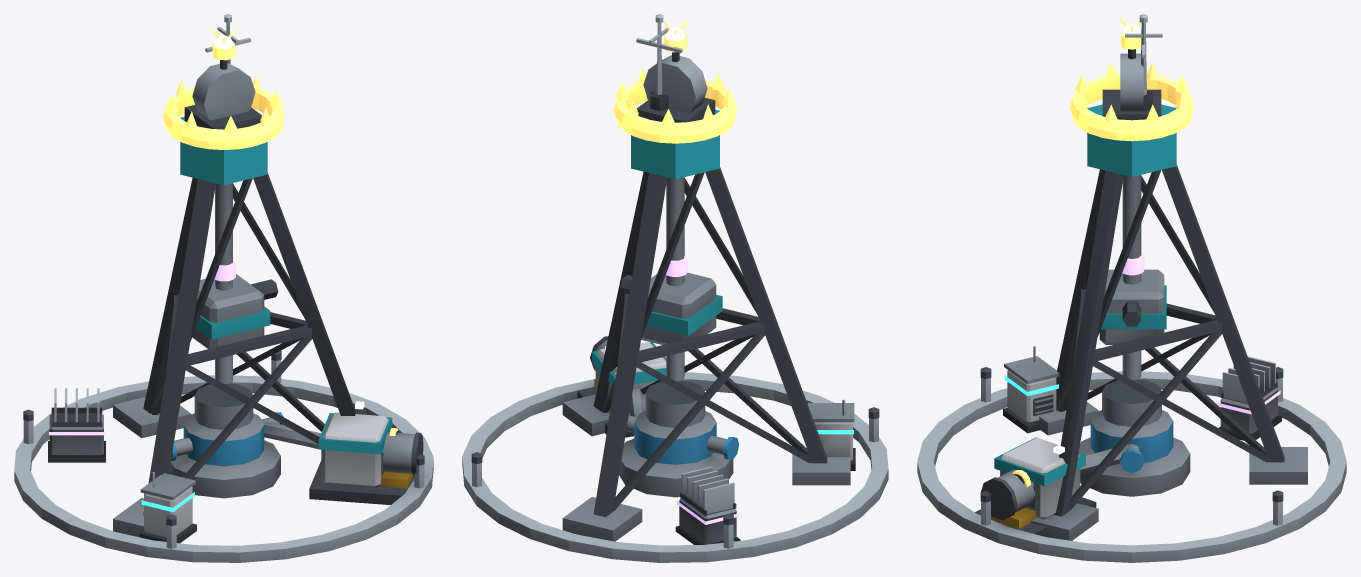
Rendered from water_extractor_s.glb.
3 renders of one model, left to right at view 1: azimuth 30°, elevation 25°; view 2: azimuth 150°, elevation 25°; view 3: azimuth 270°, elevation 25°, orthographic. The views are drawn at different scales.
Parts seen in each view (by area): view 1: Base, L2, L5, L4, L3; view 2: Base, L2, L5, L4, L3; view 3: Base, L2, L5, L3, L4.
Boxes of the visible parts, box(x1,y1,x2,y2) form: Base: box(113, 63, 423, 537); L2: box(14, 14, 433, 562); L5: box(163, 29, 399, 435); L4: box(48, 258, 235, 462); L3: box(139, 472, 196, 543); Base: box(562, 55, 850, 541); L2: box(462, 14, 888, 562); L5: box(613, 21, 737, 143); L4: box(663, 254, 740, 544); L3: box(808, 399, 855, 470); Base: box(975, 53, 1307, 540); L2: box(917, 14, 1346, 562); L5: box(1012, 18, 1193, 486); L3: box(1003, 346, 1059, 433); L4: box(1119, 252, 1281, 440).
Size of the model in its own units: 3.66 by 4.36 by 3.66.
